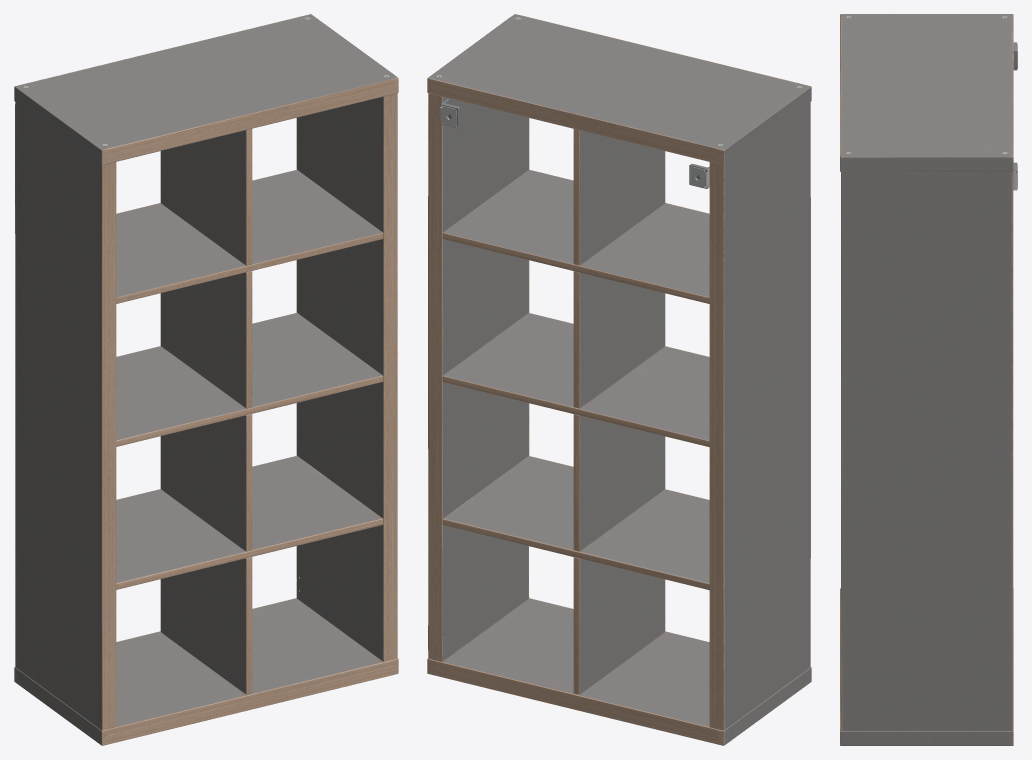
The model's file is kallax-2x4.glb.
3 renders of one model, left to right at view 1: azimuth 30°, elevation 25°; view 2: azimuth 150°, elevation 25°; view 3: azimuth 270°, elevation 25°, orthographic.
Parts seen in each view (by area): view 1: model; view 2: model; view 3: model.
Boxes of the visible parts, x1,y1,x2,y2 form: model: (14,14,398,745); model: (427,14,811,745); model: (840,14,1017,745).
Bounding box in the file's own units: 0.7654 × 1.47 × 0.4014.
1 material, 1 textured.
